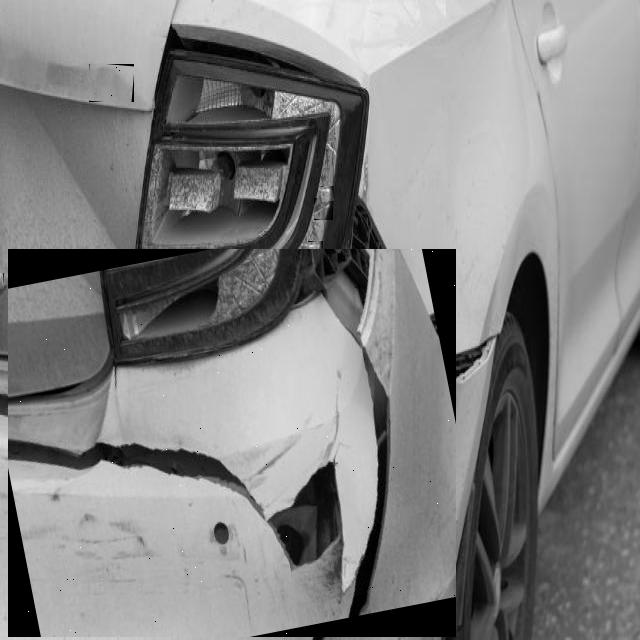Dent: (8, 249, 456, 637), (374, 255, 422, 397), (60, 478, 139, 541), (322, 385, 358, 484), (89, 64, 134, 102), (121, 338, 139, 428), (313, 560, 342, 608), (196, 565, 221, 618), (314, 198, 333, 220), (68, 483, 86, 499), (308, 241, 323, 255), (321, 186, 334, 202), (44, 452, 55, 468), (0, 273, 4, 289)
